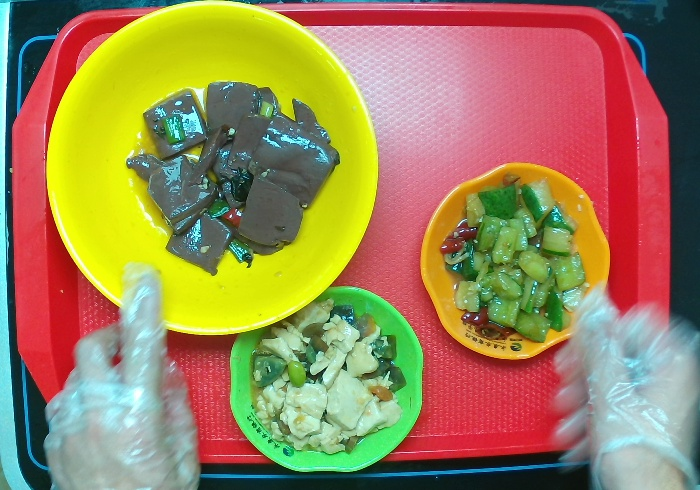YKMZ-Huang_Se_Tang_Wan: (43, 1, 381, 336)
YKMZ-Ju_Se_Ao_Bian_Wan: (419, 161, 613, 363)
YKMZ-Lv_Se_Ao_Bian_Wan: (228, 285, 425, 475)
